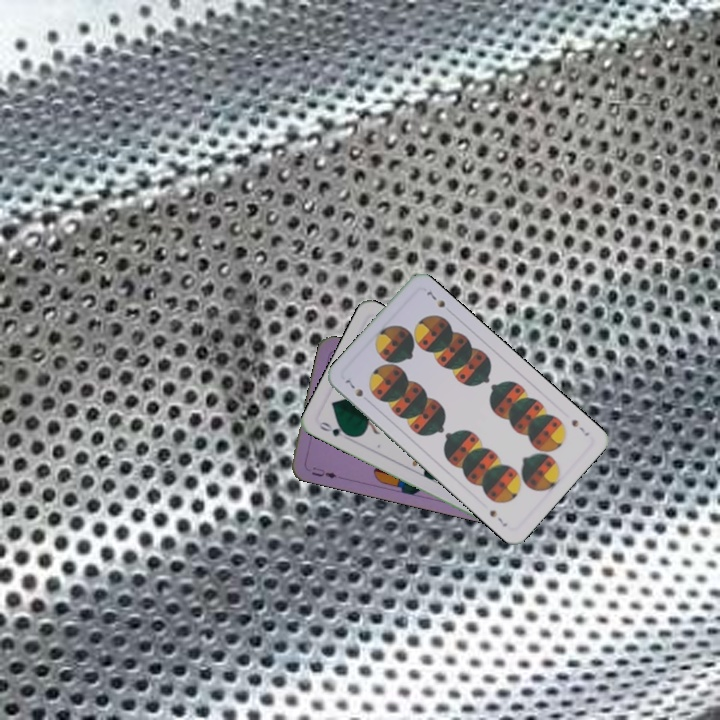EU: (308, 463, 339, 481)
GO: (315, 418, 354, 439)
S7: (339, 373, 366, 399), (567, 415, 592, 439)
